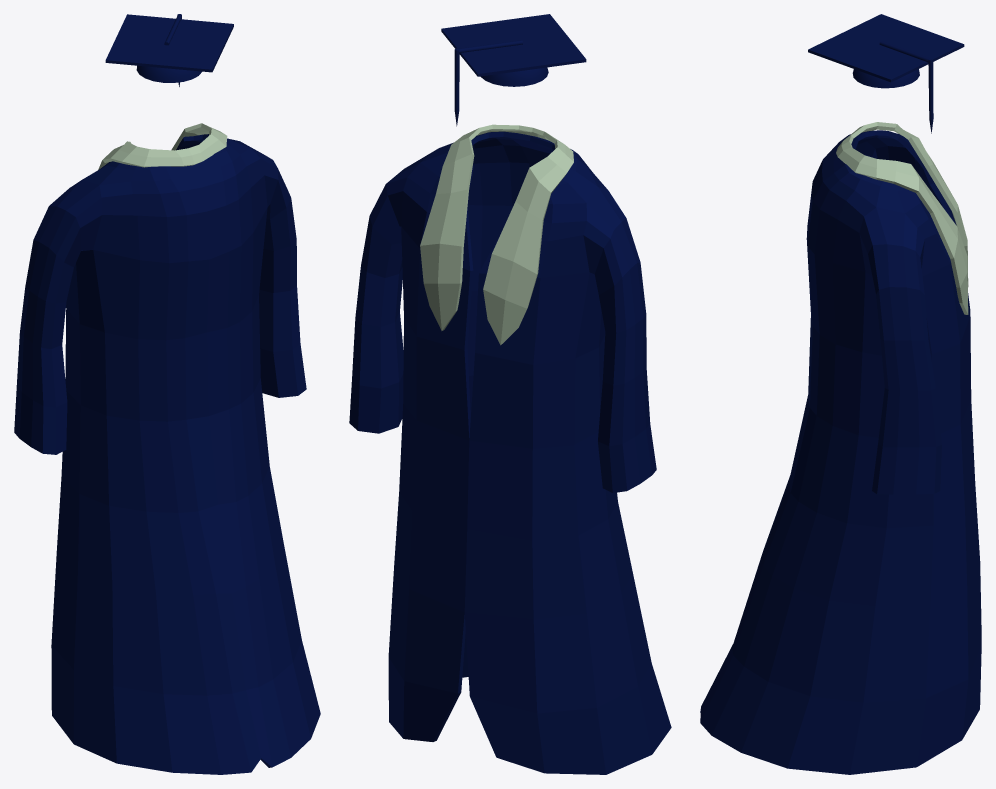
Rendered from player.fbx.
3 views of the same model, side by side, from view 1: azimuth 30°, elevation 25°; view 2: azimuth 150°, elevation 25°; view 3: azimuth 270°, elevation 25° (orthographic). The views are drawn at different scales.
Visible parts, largest first — view 1: Grid.002, grad_hat.001, Grid.003; view 2: Grid.002, Grid.003, grad_hat.001; view 3: Grid.002, grad_hat.001, Grid.003.
Part boxes in pixels (left/top/right/bottom): Grid.002: left=14, top=134, right=320, bottom=774; grad_hat.001: left=105, top=14, right=233, bottom=86; Grid.003: left=98, top=123, right=227, bottom=169; Grid.002: left=349, top=131, right=671, bottom=774; Grid.003: left=420, top=124, right=573, bottom=345; grad_hat.001: left=441, top=14, right=586, bottom=126; Grid.002: left=700, top=130, right=981, bottom=774; grad_hat.001: left=808, top=14, right=964, bottom=133; Grid.003: left=836, top=122, right=968, bottom=314.
Size of the model in its own units: 66.07 by 155 by 58.43.
